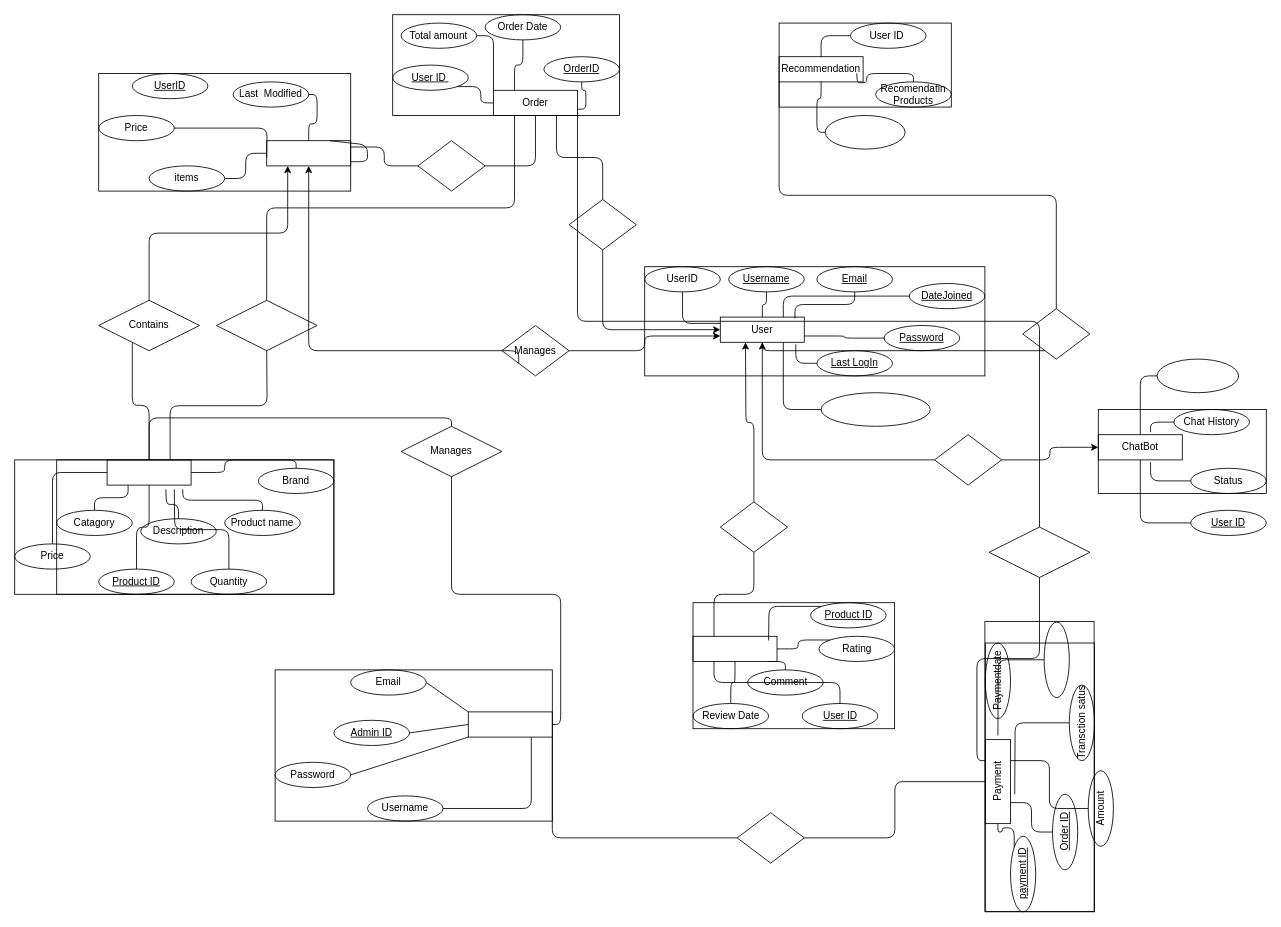
Some shapes in this 1281 by 927 pixel diagram are drawn without their labels. Each missing label, with the centre of its shape:
Admin: point 509,724
Assists: point 968,459
Cart: point 308,153
Included In: point 266,325
Initiates: point 1039,552
Monitors: point 770,837
Payment Method: point 1056,659
Places: point 602,224
Products: point 148,472
Provided to: point 1056,333
Review: point 734,648
Services: point 1197,375
SessionManagement: point 875,409
Submits: point 451,165
User Feedback: point 864,132
Writes: point 753,526
